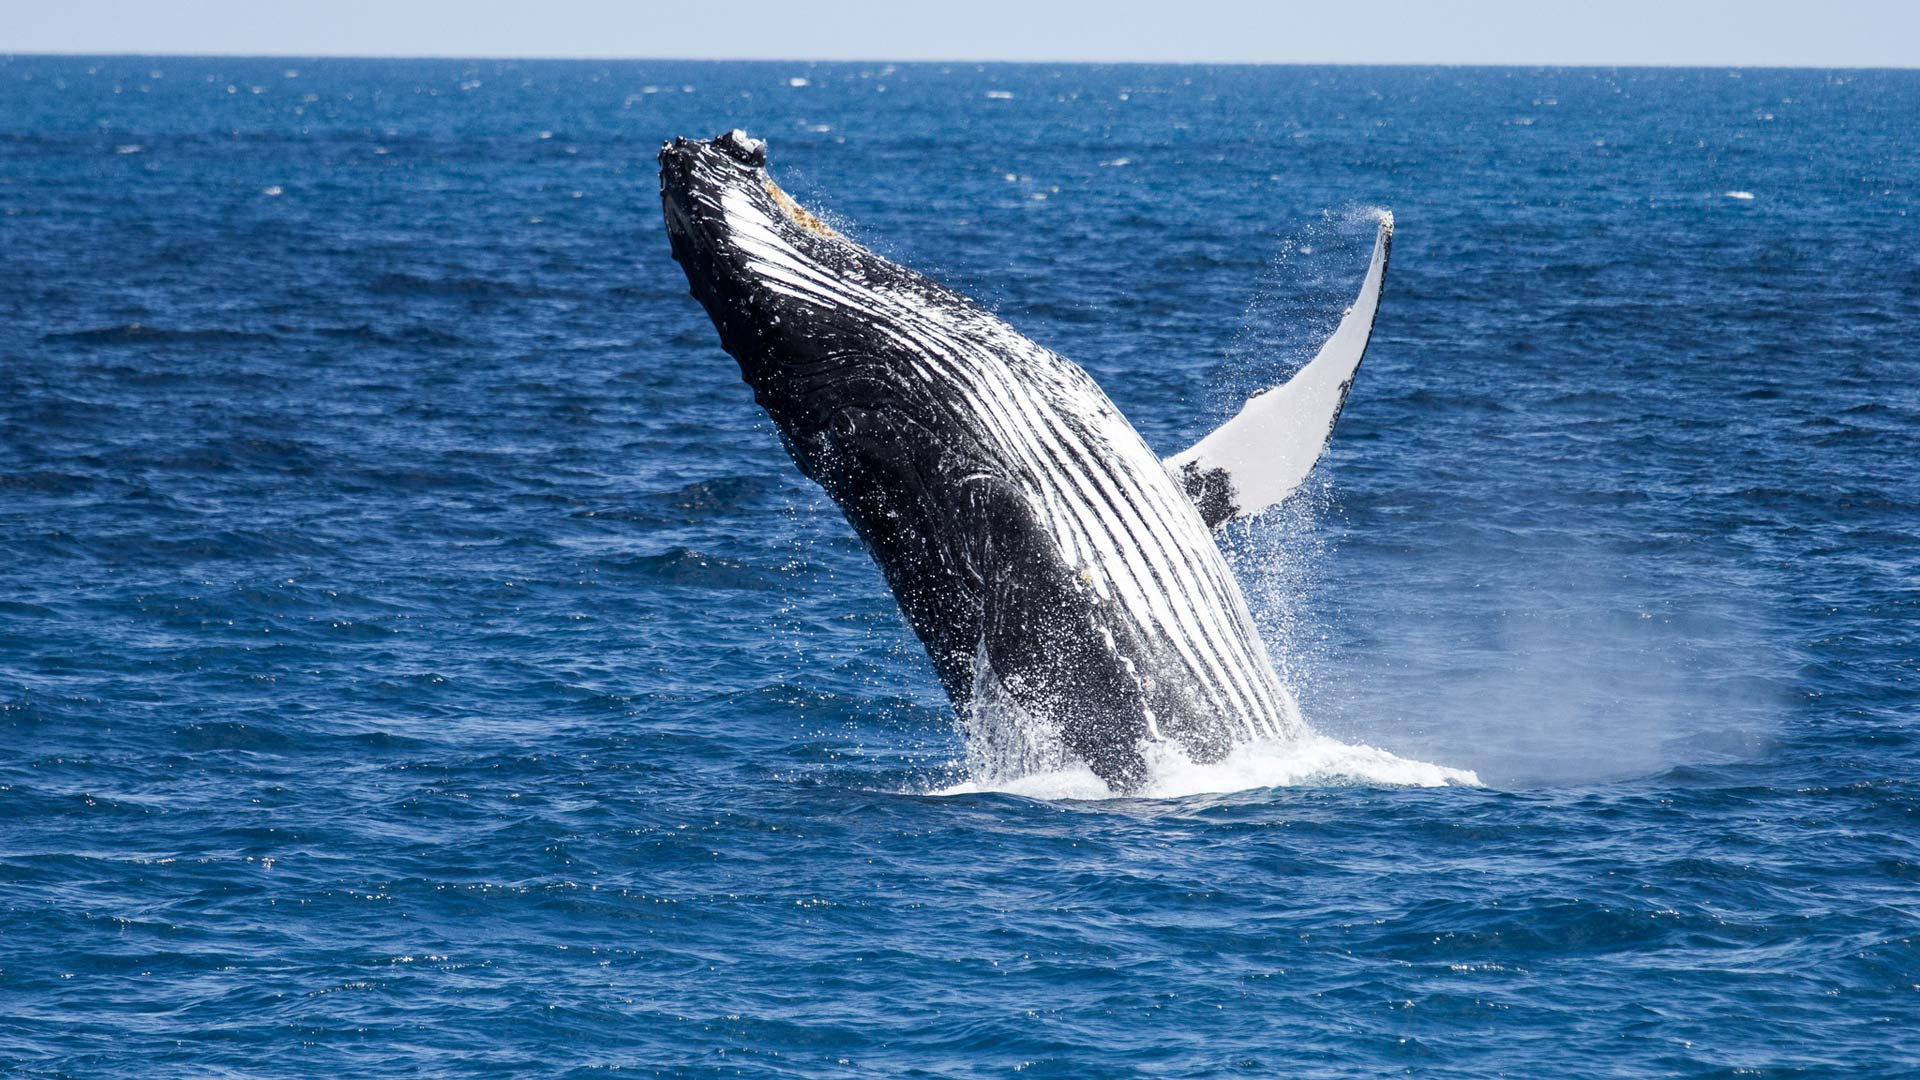humpback: (662, 137, 1317, 742)
